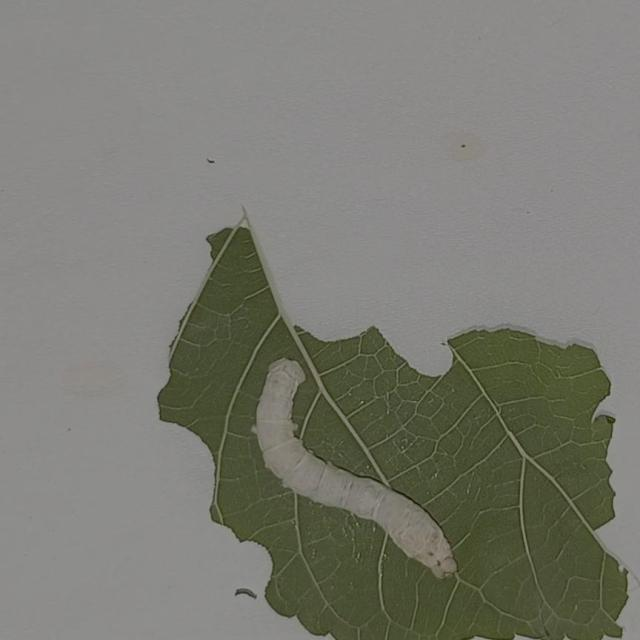Healthy: (228, 342, 514, 614)
